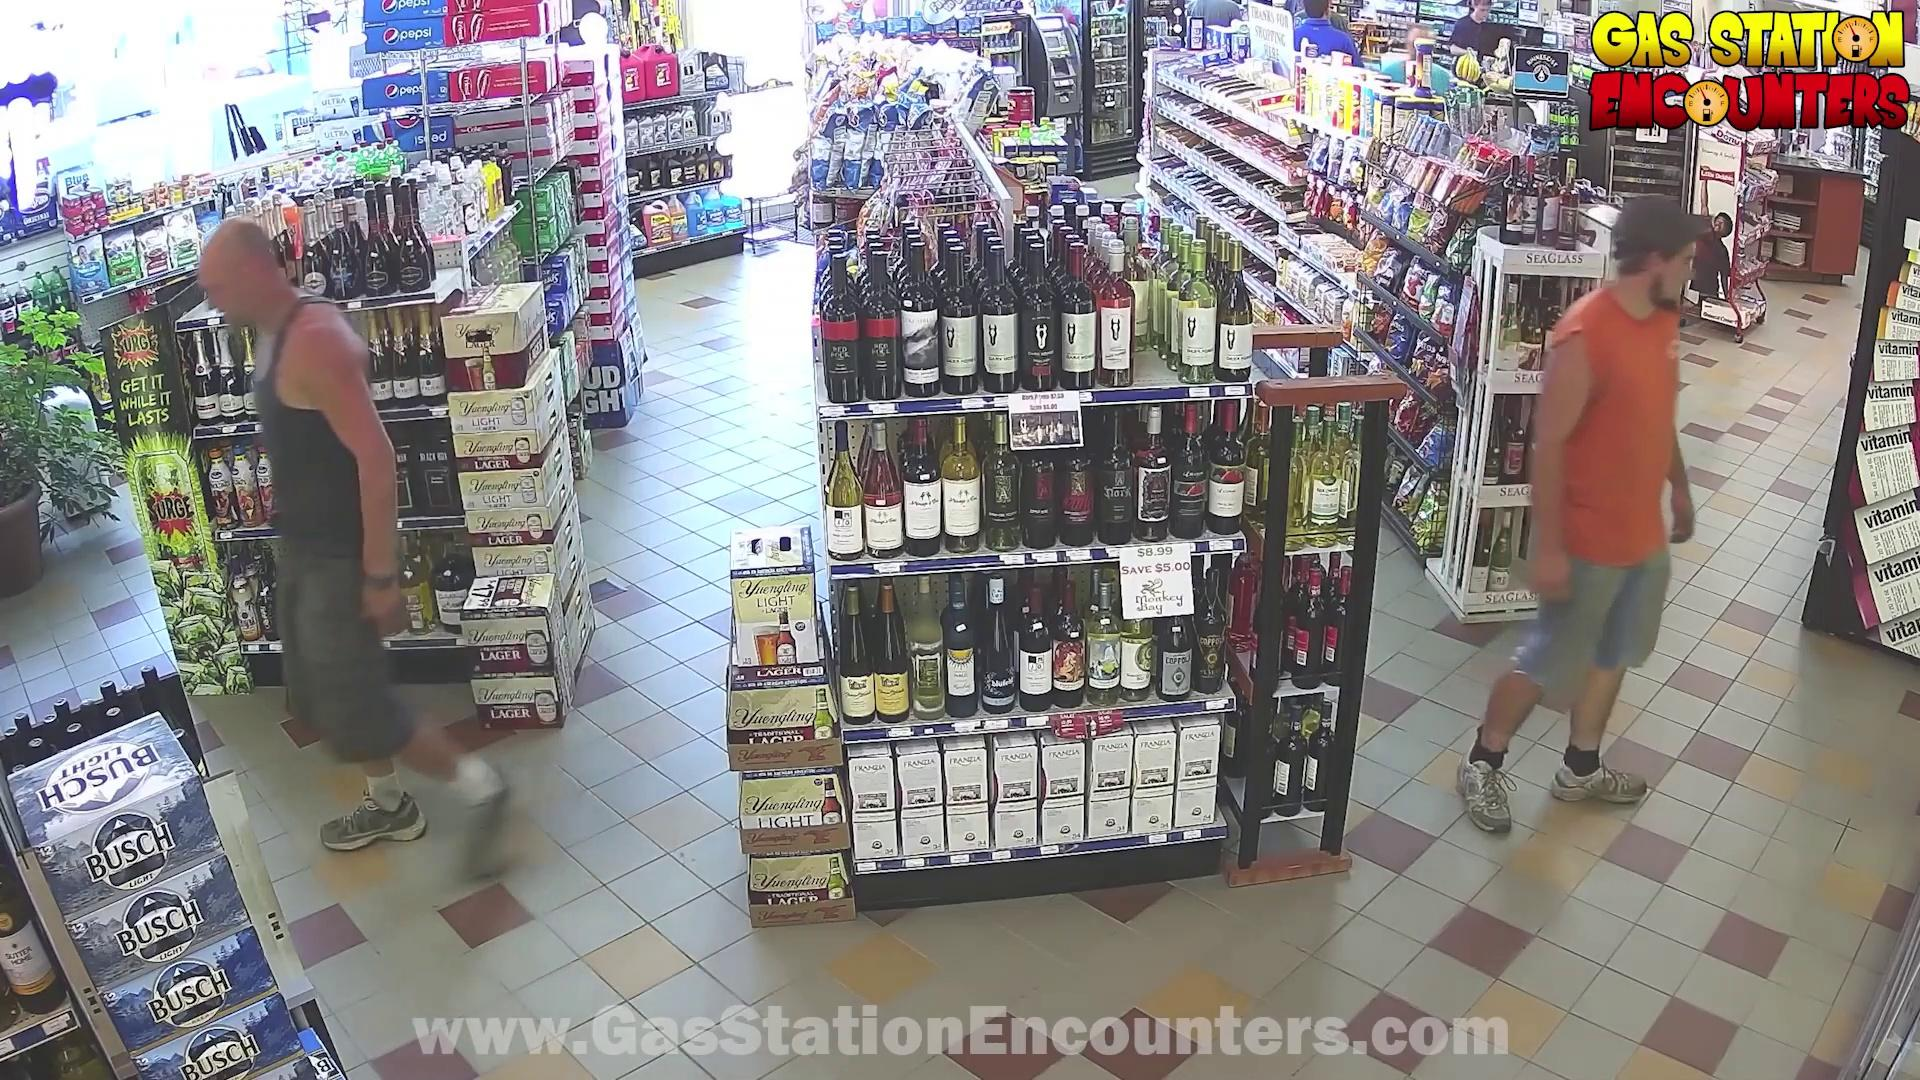Regular: (117, 162, 514, 890), (1452, 161, 1787, 858)
